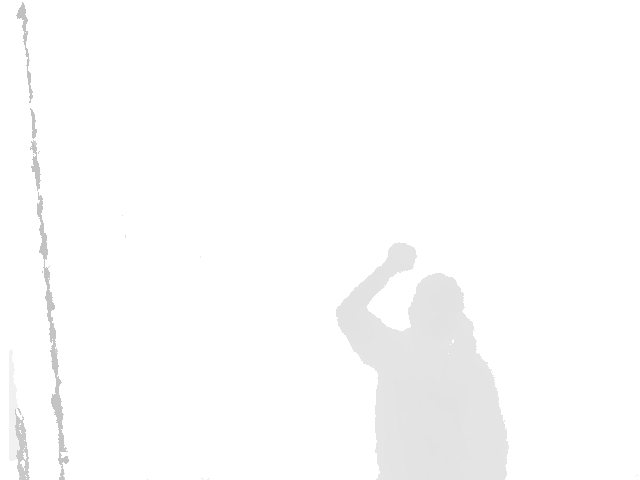hand: (387, 242, 417, 275)
head: (408, 272, 467, 350)
person: (335, 242, 511, 480)
